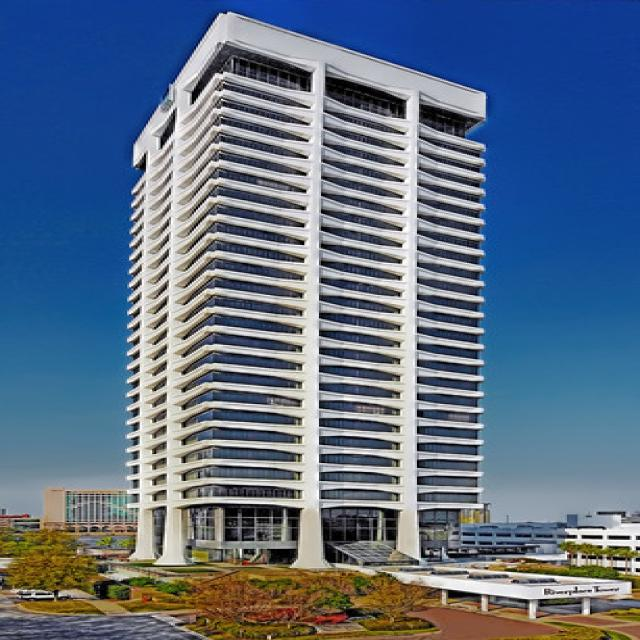building: (114, 4, 495, 572)
